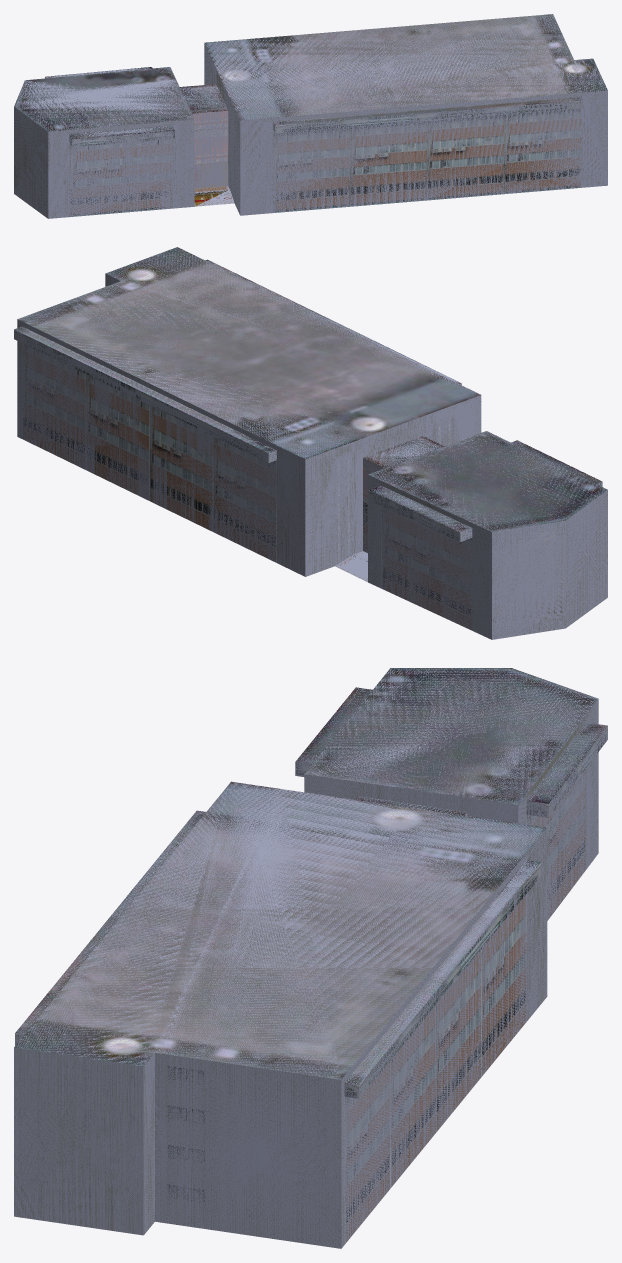
File: F2700012財經大樓.fbx
The picture shows the model from 3 angles, top to bottom: view 1: azimuth 30°, elevation 25°; view 2: azimuth 150°, elevation 25°; view 3: azimuth 270°, elevation 25°; orthographic projection. The views are drawn at different scales.
Parts seen in each view (by area): view 1: Group1; view 2: Group1; view 3: Group1.
Boxes of the visible parts, x1=… form: Group1: x1=14, y1=14, x2=607, y2=218; Group1: x1=14, y1=247, x2=607, y2=639; Group1: x1=14, y1=668, x2=607, y2=1248.
Bounding box in the file's own units: 64.85 × 12 × 38.22.
